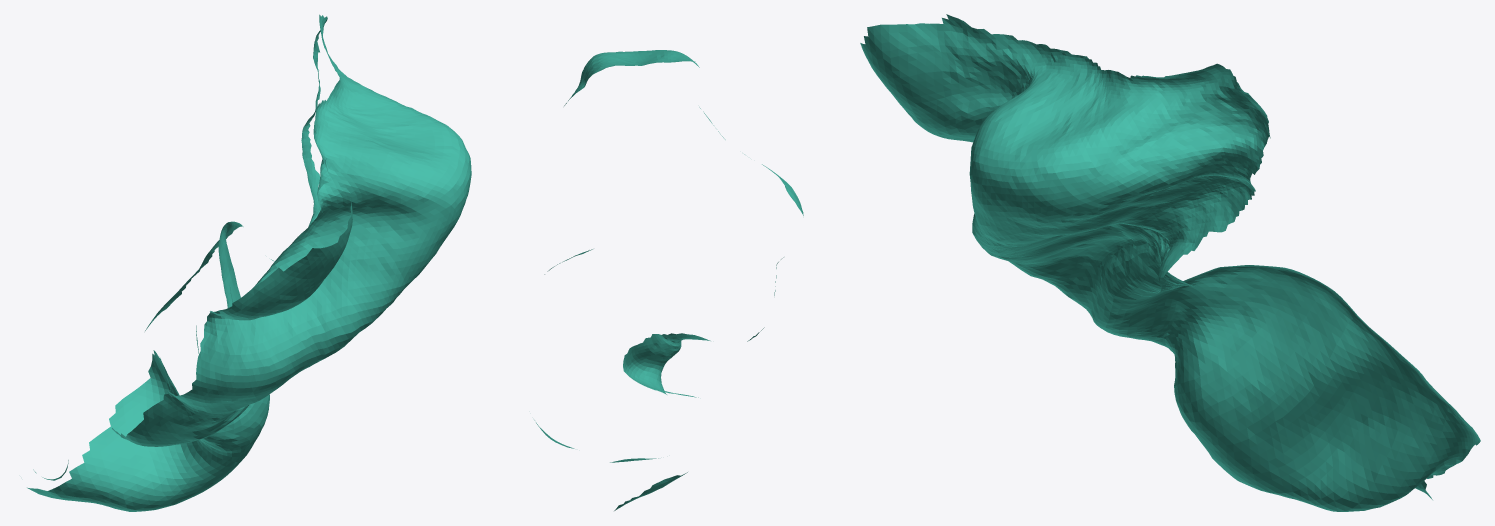
The model's file is rh_superiorparietal.glb.
3 views of the same model, side by side, from view 1: azimuth 30°, elevation 25°; view 2: azimuth 150°, elevation 25°; view 3: azimuth 270°, elevation 25° (orthographic). The views are drawn at different scales.
Visible parts, largest first — view 1: world; view 2: world; view 3: world.
Part boxes in pixels (x1,y1,x2,y2): world: (27,14,471,511); world: (534,50,803,510); world: (860,14,1480,511).
Size of the model in its own units: 35.13 by 56.89 by 61.31.
